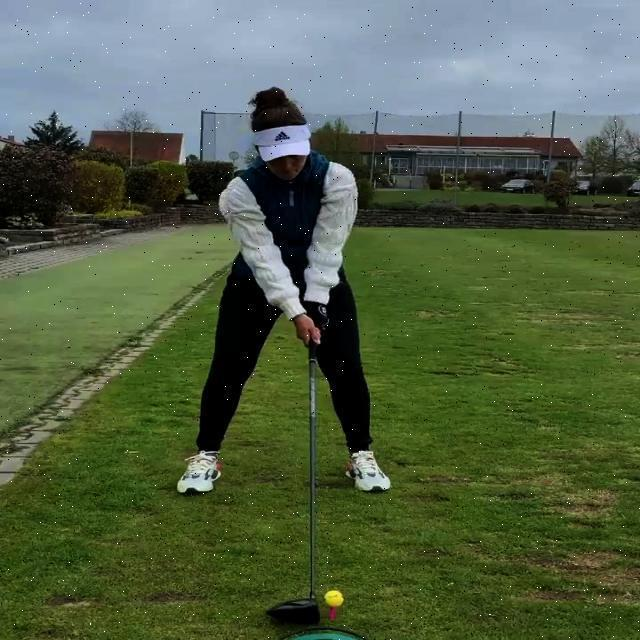ClubHead: (264, 598, 322, 625)
GolfBall: (324, 590, 346, 608)
